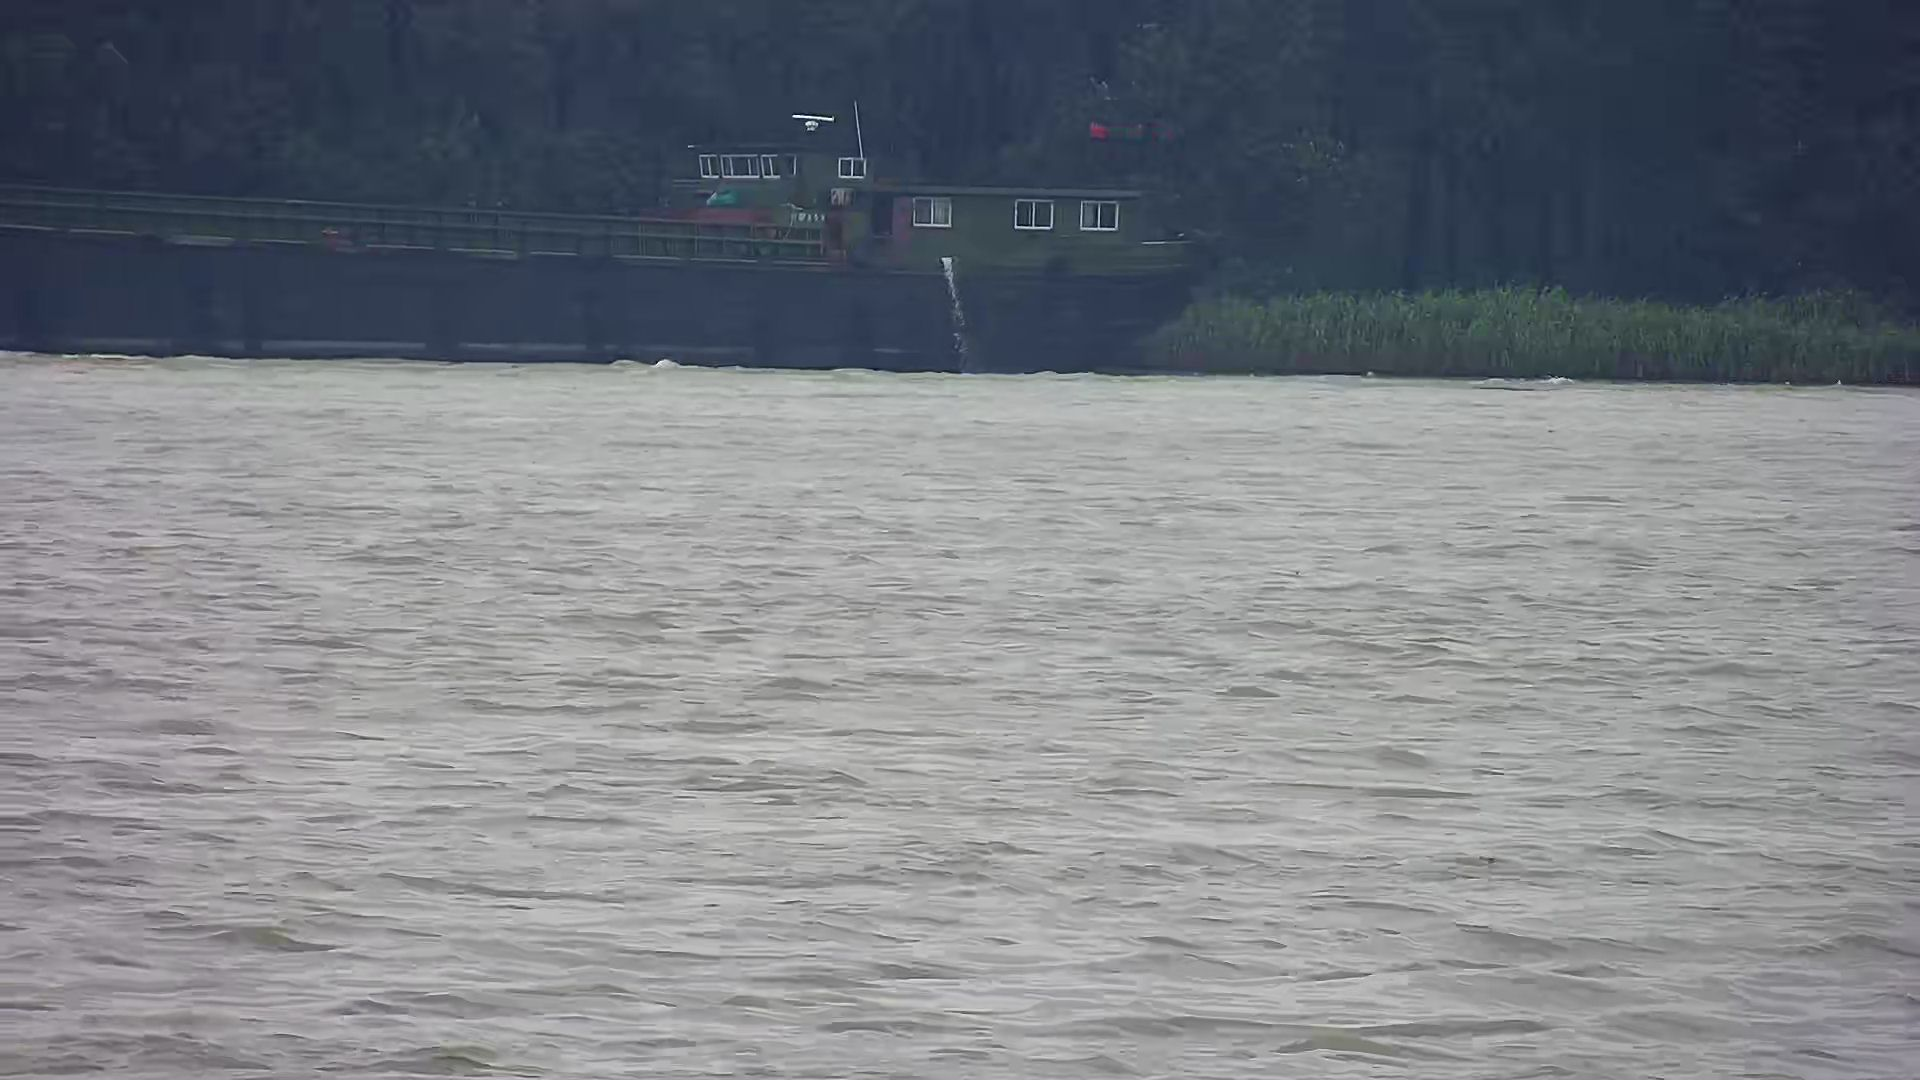ship: (1, 92, 1207, 397)
